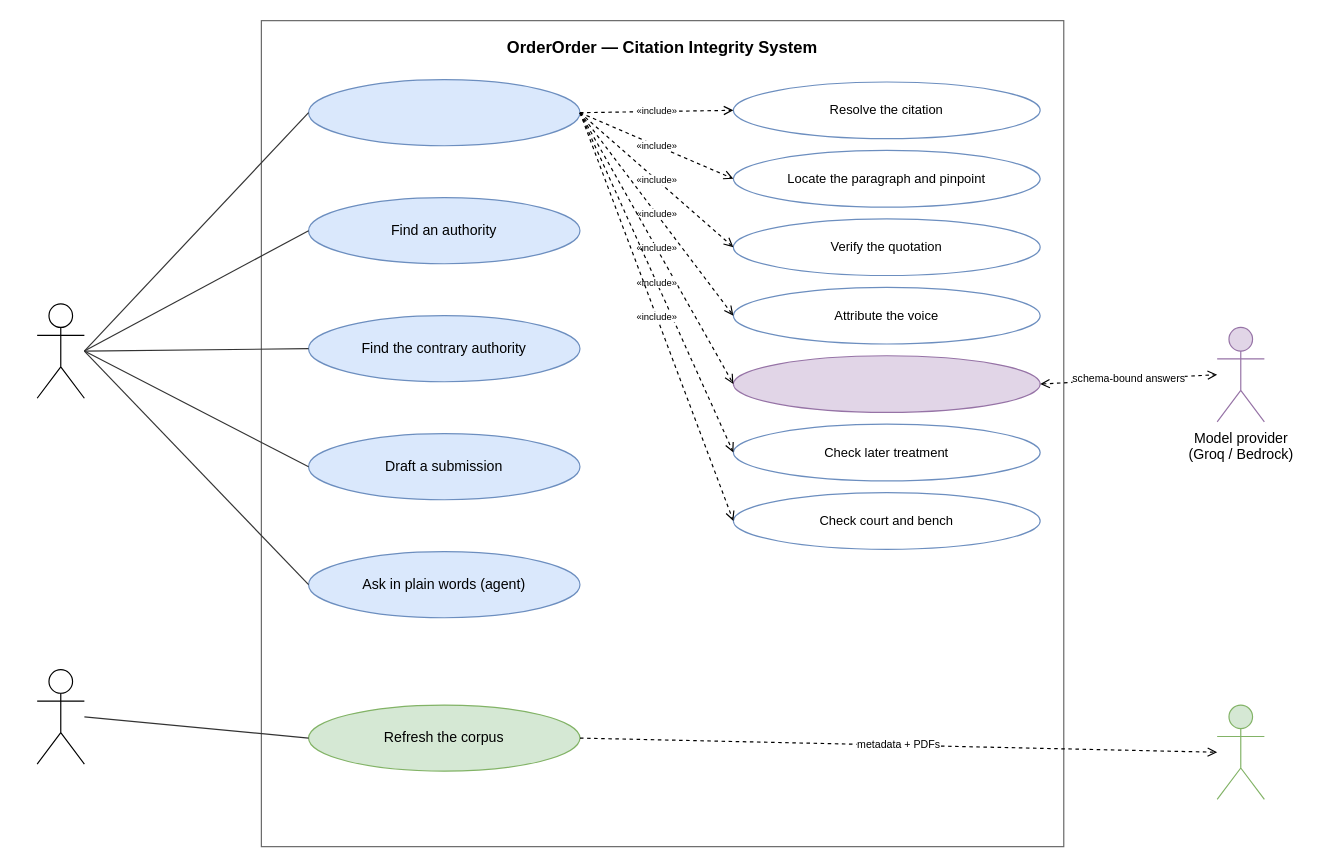
This 1336x867 diagram has some shape labels left out. Here are the shapes that lost their labels. From the top down, the centre of each, then its label:
(x=443, y=112): Verify a brief
(x=60, y=350): Advocate / Law student
(x=886, y=383): Assess extent of support
(x=60, y=716): Corpus administrator
(x=1240, y=751): AWS Open Data (judgments, CC-BY-4.0)
